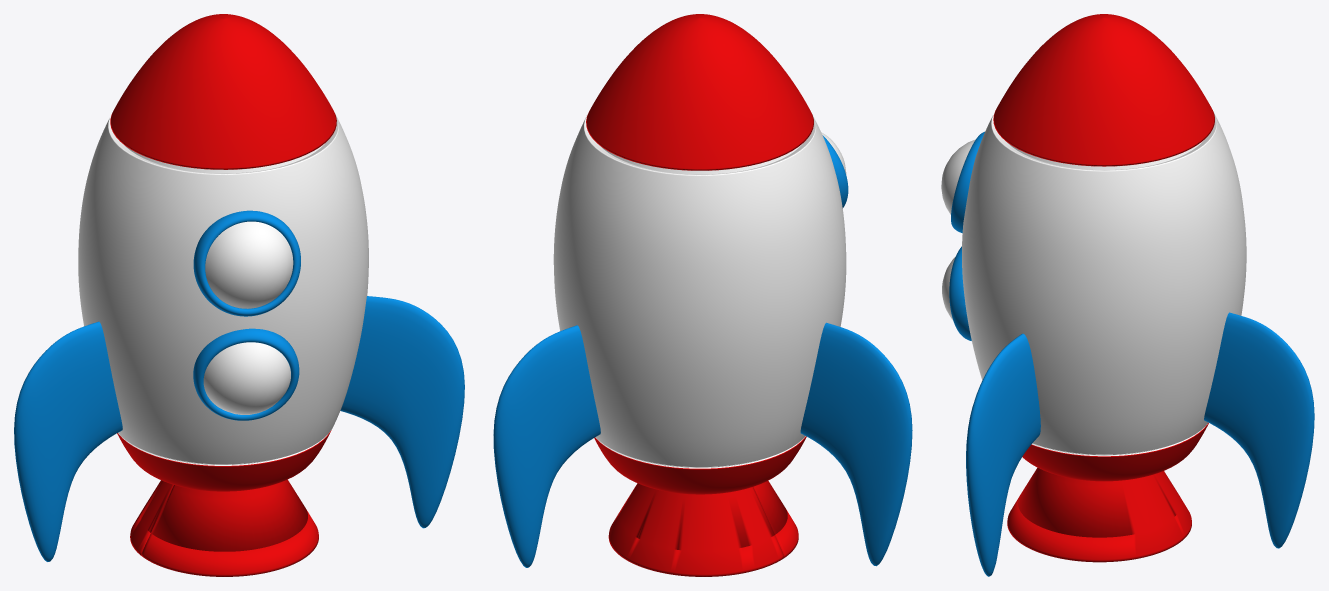
The model's file is rocket.fbx.
3 views of the same model, side by side, from view 1: azimuth 30°, elevation 25°; view 2: azimuth 150°, elevation 25°; view 3: azimuth 270°, elevation 25° (orthographic). The views are drawn at different scales.
Parts seen in each view (by area): view 1: Sphere.003; view 2: Sphere.003; view 3: Sphere.003.
Part boxes in pixels (x1,y1,x2,y2): Sphere.003: [14, 14, 464, 576]; Sphere.003: [493, 14, 912, 576]; Sphere.003: [941, 14, 1314, 576].
Size of the model in its own units: 272 by 352 by 235.
